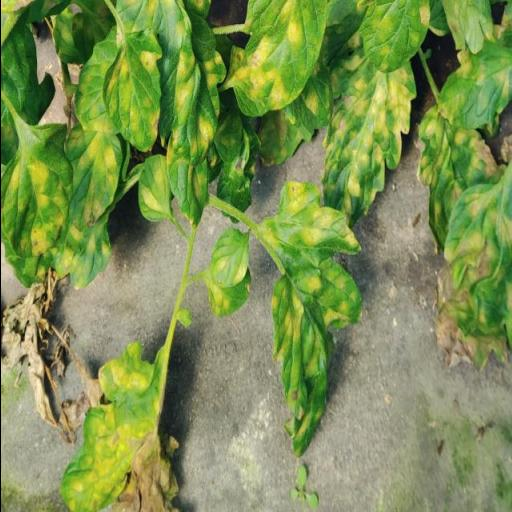Leaf Mold: (258, 181, 360, 459), (58, 338, 178, 512), (321, 29, 416, 230), (0, 122, 111, 288), (116, 0, 226, 167), (434, 156, 512, 372), (415, 104, 497, 255), (244, 0, 327, 110), (102, 30, 162, 154), (436, 38, 512, 130), (64, 123, 122, 231), (356, 0, 434, 73), (204, 227, 252, 289), (136, 154, 174, 224)
